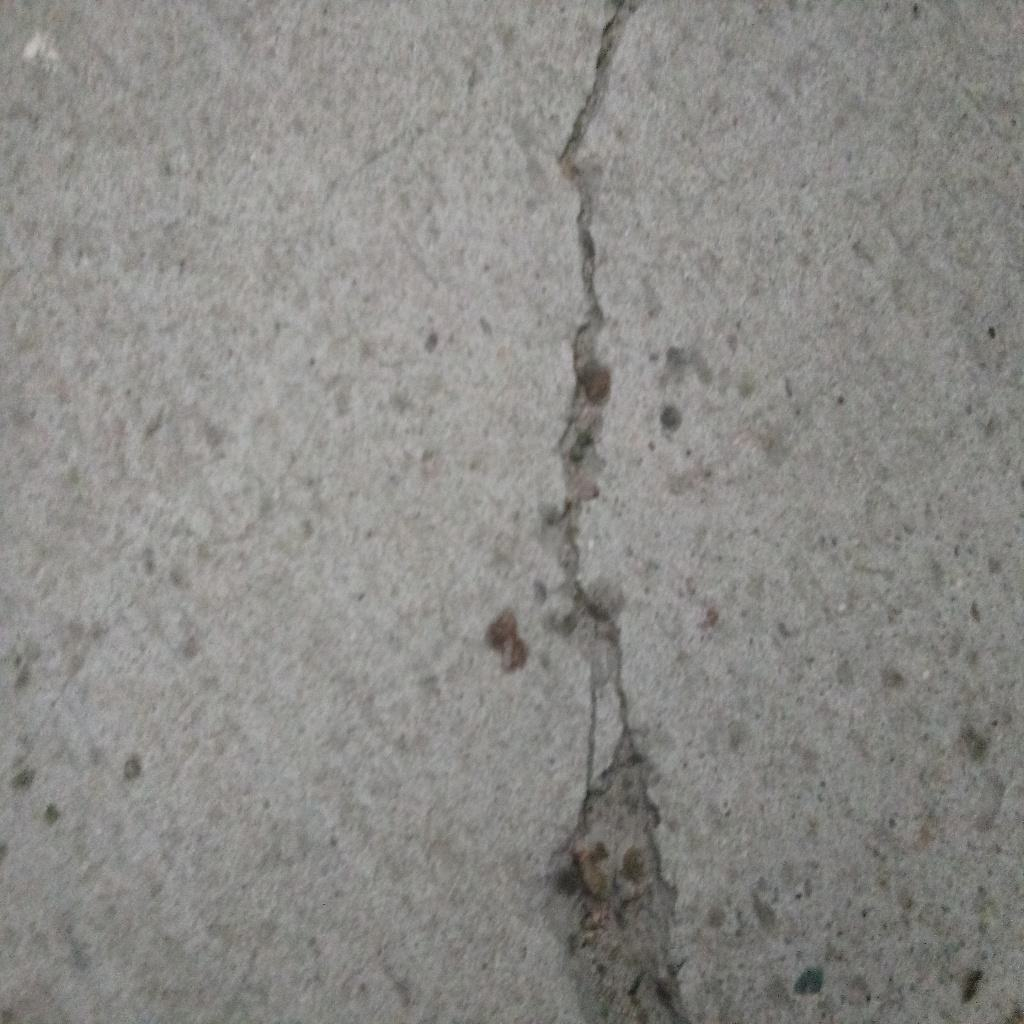Crack: (543, 1, 692, 1024)
